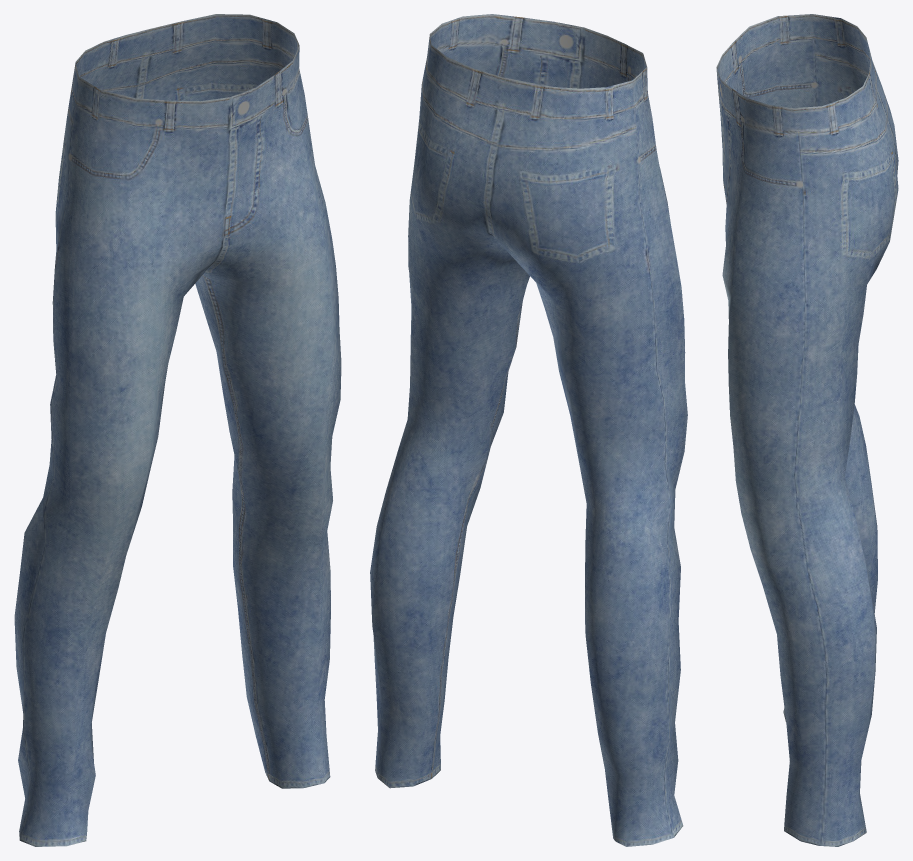
The model's file is blue-jeans.glb.
3 views of the same model, side by side, from view 1: azimuth 30°, elevation 25°; view 2: azimuth 150°, elevation 25°; view 3: azimuth 270°, elevation 25° (orthographic). The views are drawn at different scales.
Parts seen in each view (by area): view 1: blue_jeans; view 2: blue_jeans; view 3: blue_jeans.
Boxes of the visible parts, x1,y1,x2,y2 form: blue_jeans: [14, 14, 341, 846]; blue_jeans: [370, 14, 687, 846]; blue_jeans: [716, 14, 898, 846].
Size of the model in its own units: 0.4338 by 1.05 by 0.239.
Materials: 1 (1 with a texture image).
